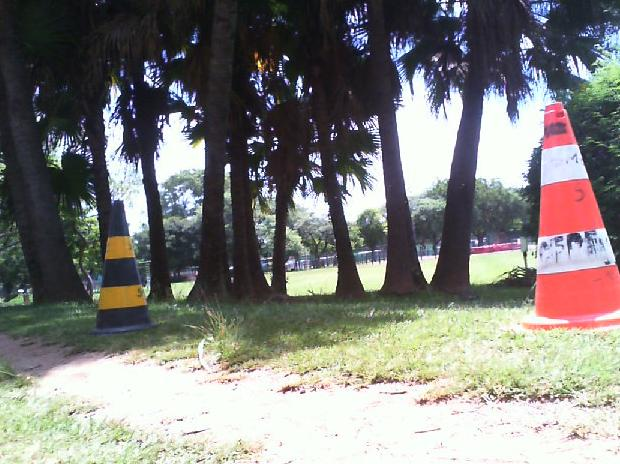0 cone: (514, 102, 620, 334), (87, 200, 172, 335)
